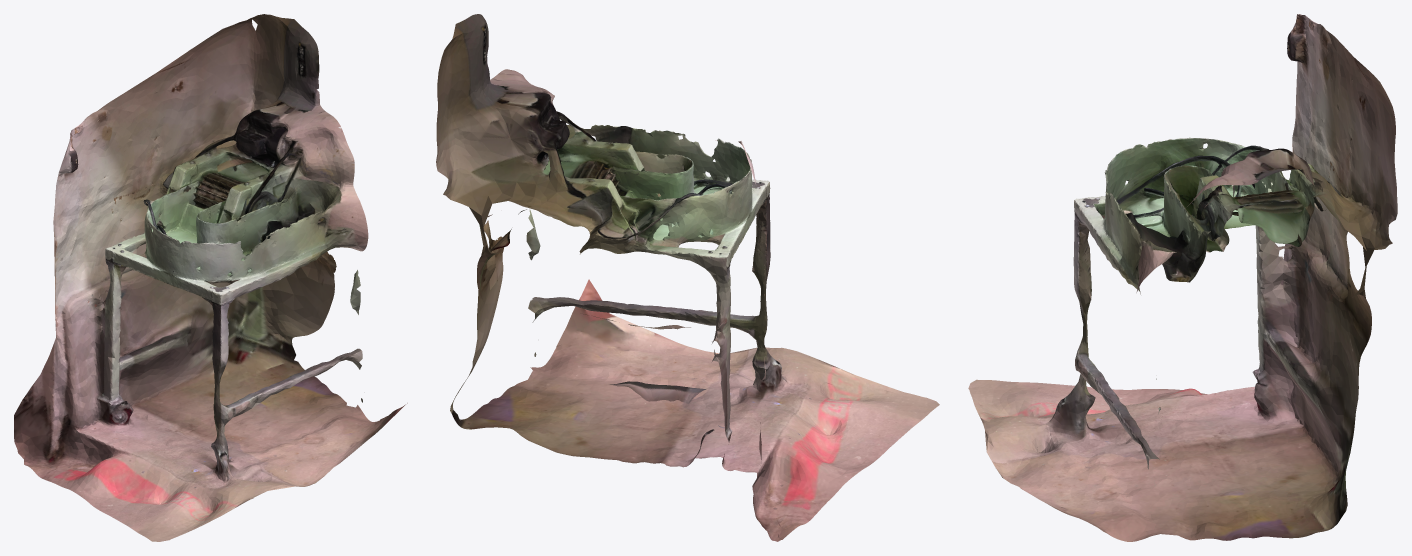
Rendered from background.glb.
The picture shows the model from 3 angles, left to right: view 1: azimuth 30°, elevation 25°; view 2: azimuth 150°, elevation 25°; view 3: azimuth 270°, elevation 25°; orthographic projection. The views are drawn at different scales.
Size of the model in its own units: 1.68 by 2.18 by 1.75.
Materials: 1 (1 with a texture image).
